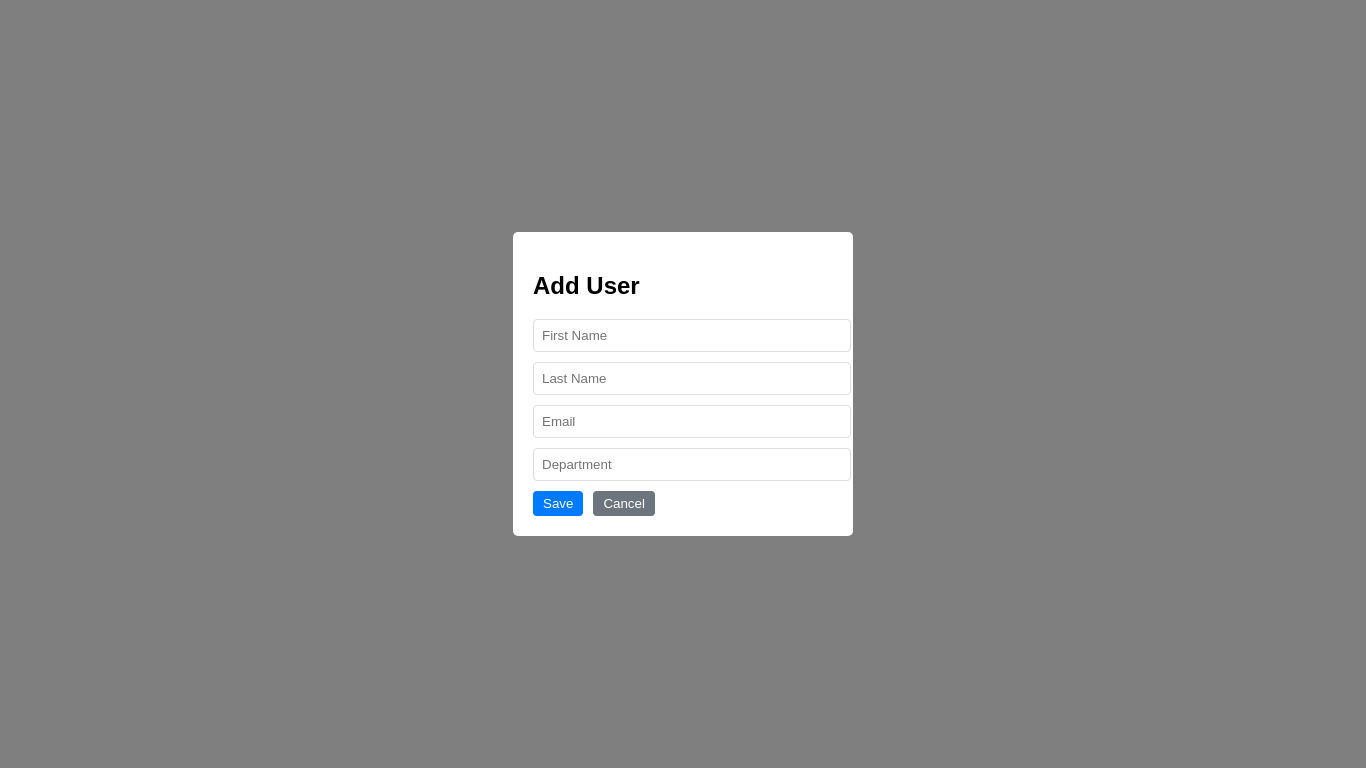
Test case: UserForm Component › shows validation errors on submit with empty fields
The width and height of the screenshot is (1366, 768).
What coordinates should you click on to do the following:
click the button "Save"
I would click on:
 (558, 504)
Its box is [533,491,583,516].
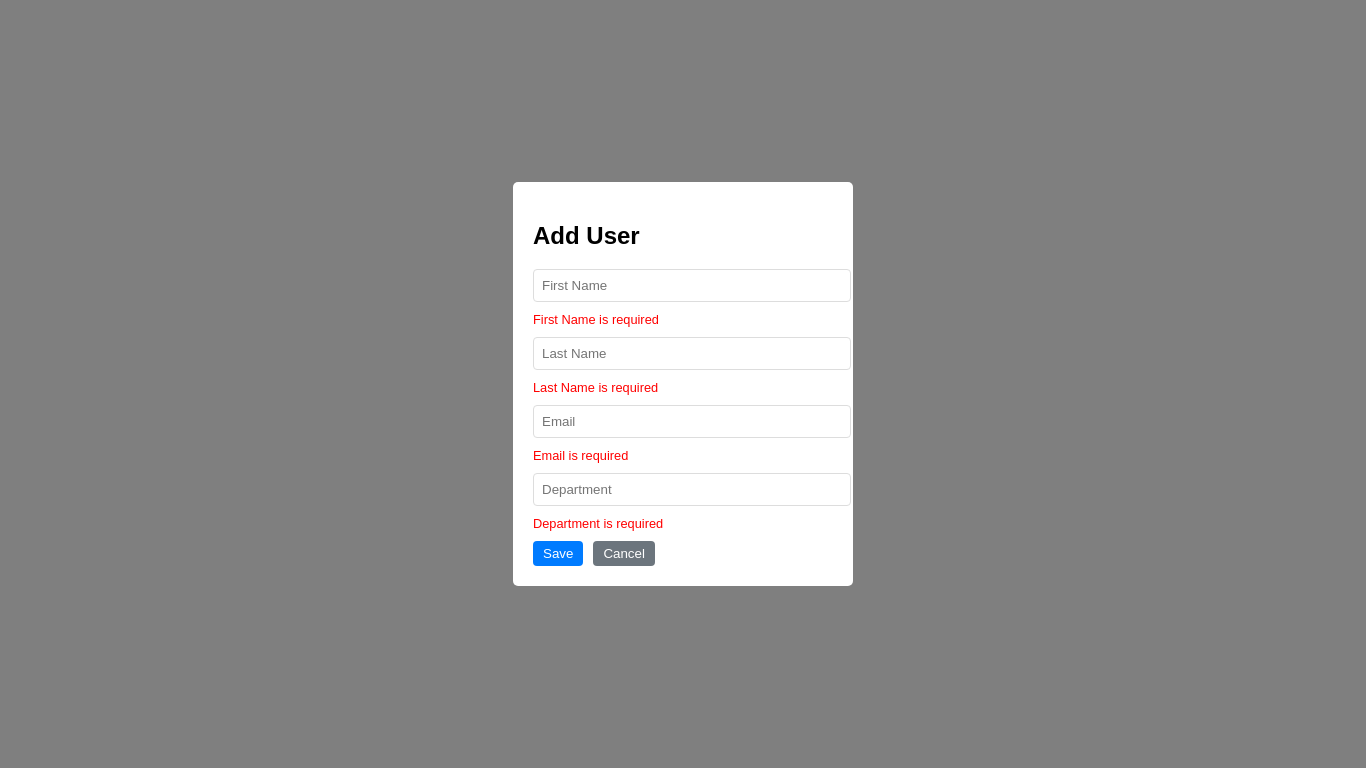
expect the text "First Name is required" is shown: met, box [533,312,659,327]
expect the text "Last Name is required" is shown: met, box [533,380,658,395]
expect the text "Email is required" is shown: met, box [533,448,628,463]
